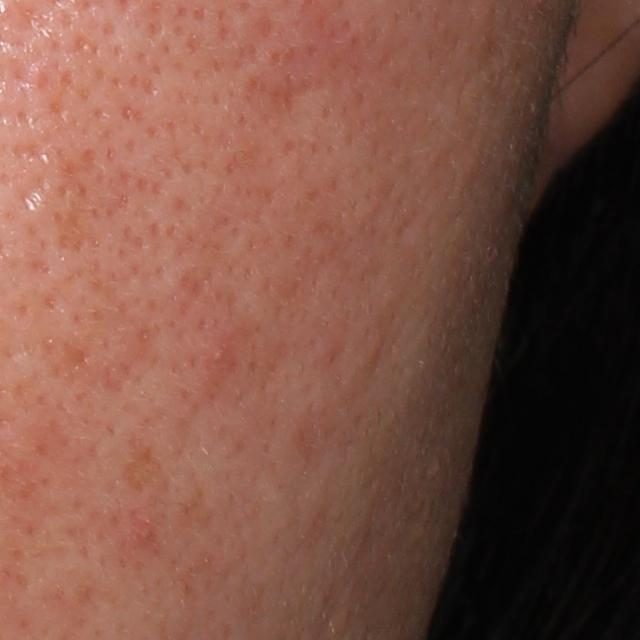papule: (130, 520, 163, 548)
